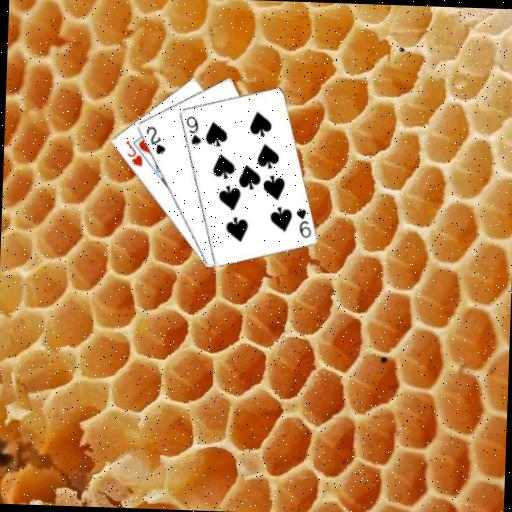2S: (142, 123, 168, 156)
9S: (182, 112, 203, 147), (292, 205, 313, 239)
JH: (120, 137, 144, 168)
